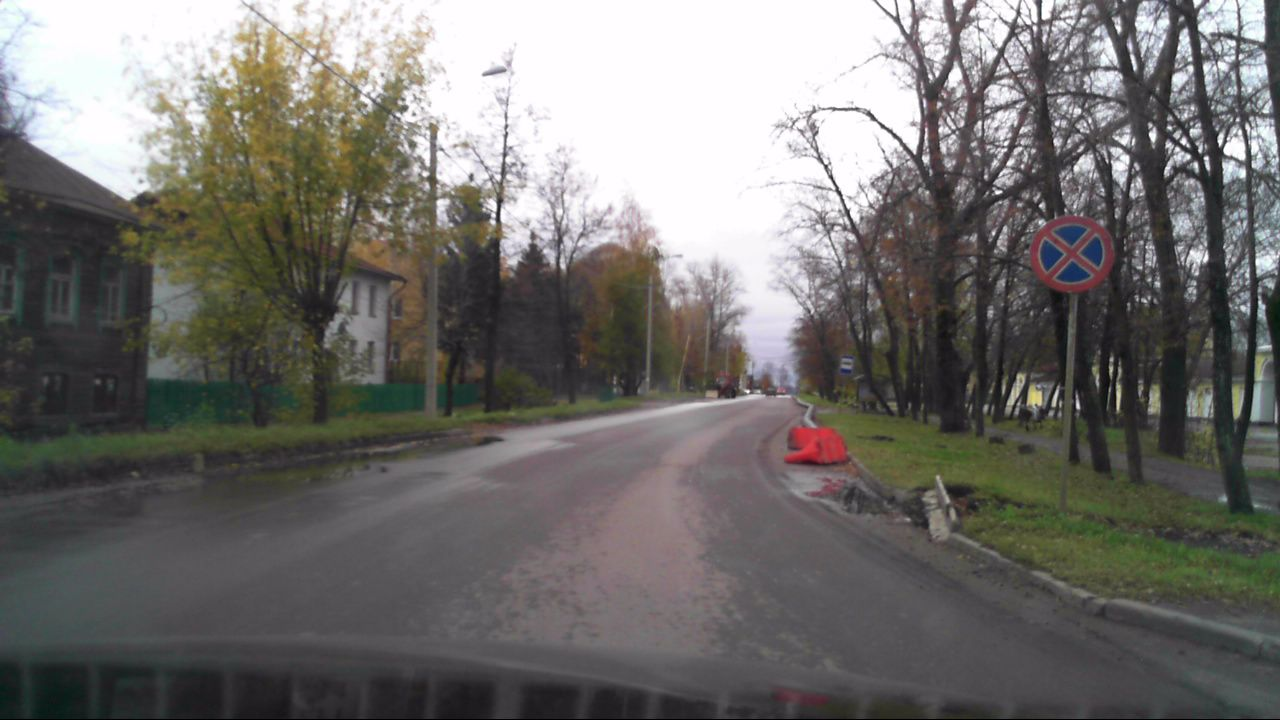No Parking: (1030, 217, 1109, 293)
